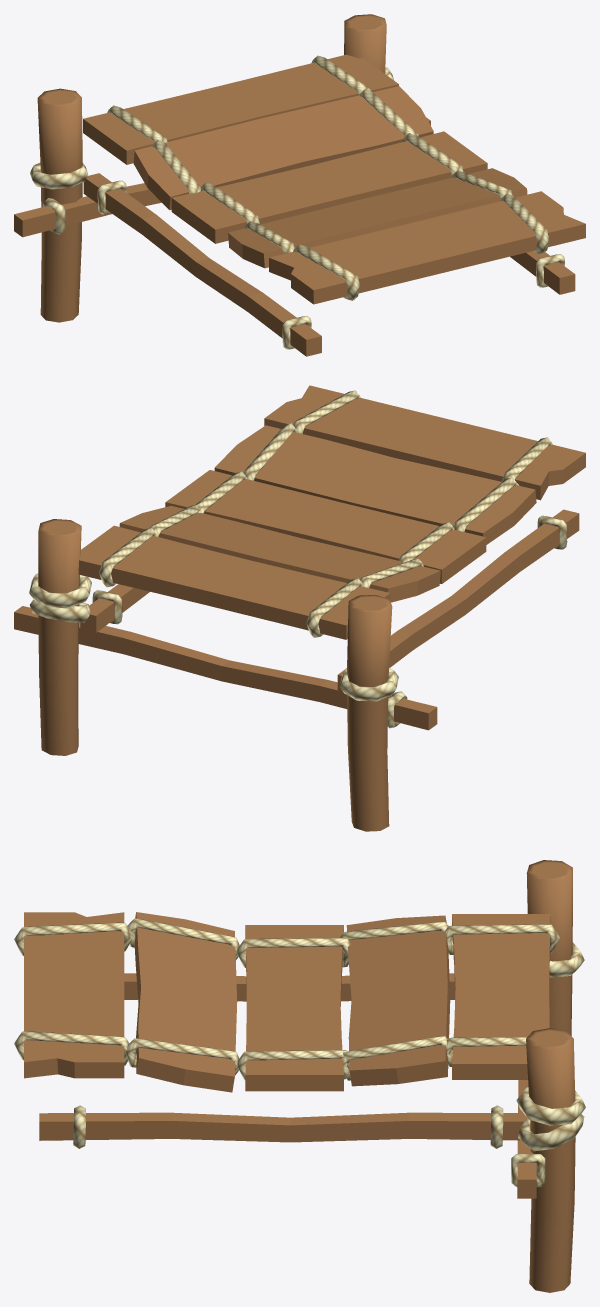
The model's file is H_Ponton_01.fbx.
3 views of the same model, one above another, from view 1: azimuth 30°, elevation 25°; view 2: azimuth 150°, elevation 25°; view 3: azimuth 270°, elevation 25° (orthographic). The views are drawn at different scales.
Parts seen in each view (by area): view 1: H_Ponton_01; view 2: H_Ponton_01; view 3: H_Ponton_01.
Part boxes in pixels (x1,y1,x2,y2): H_Ponton_01: [14, 14, 585, 356]; H_Ponton_01: [14, 385, 585, 831]; H_Ponton_01: [14, 860, 585, 1292].
Size of the model in its own units: 300 by 152 by 322.
